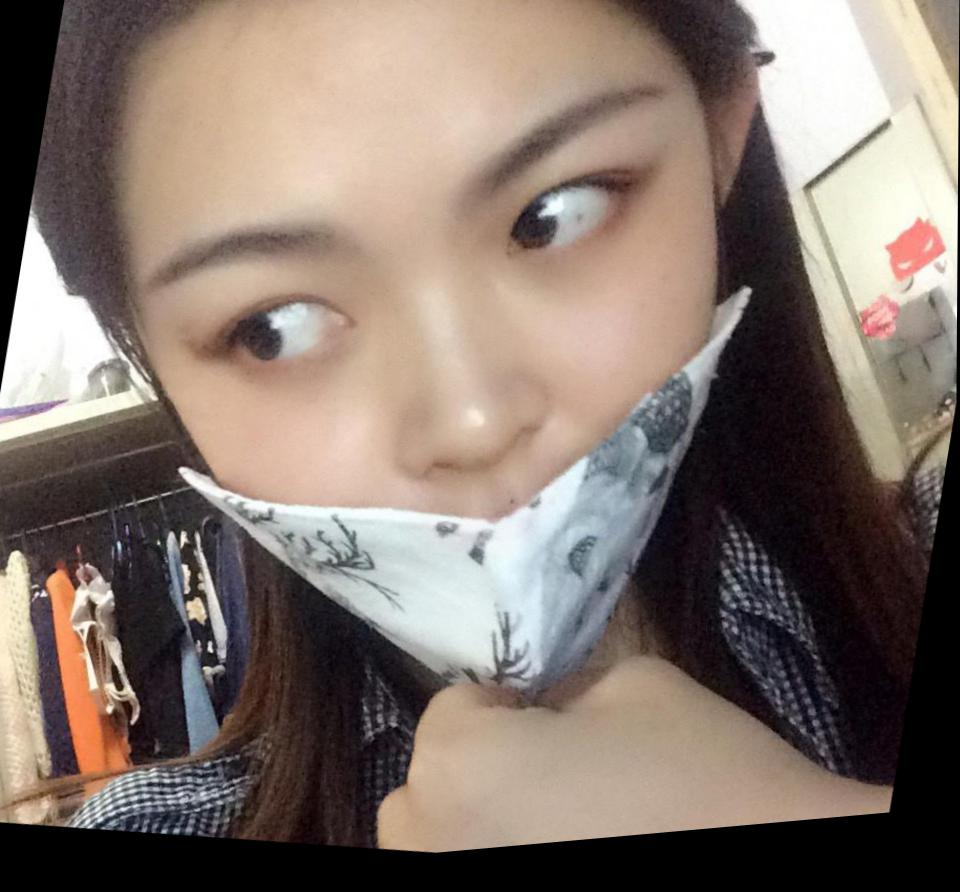WRONG: (85, 1, 763, 768)
